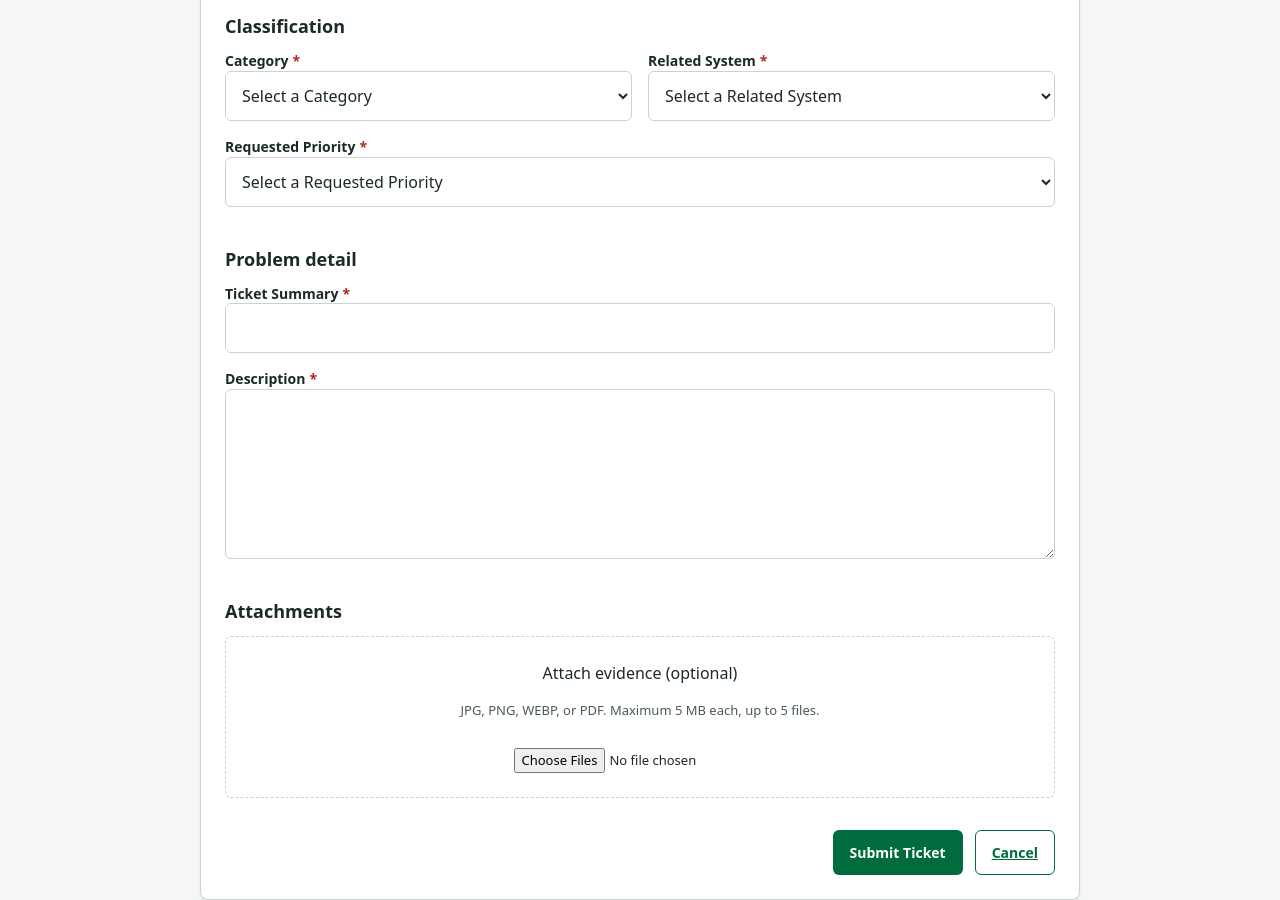
Test: CreateTicket (UI-11 - AC-12) › blocks submission with an empty Summary and sends no create request
(page scrolled)
Check: the dropdown with test id "field-category" is shown, box [225, 71, 632, 121]
Click the button with test id "btn-submit-ticket".
click(898, 853)  # box [833, 830, 963, 875]
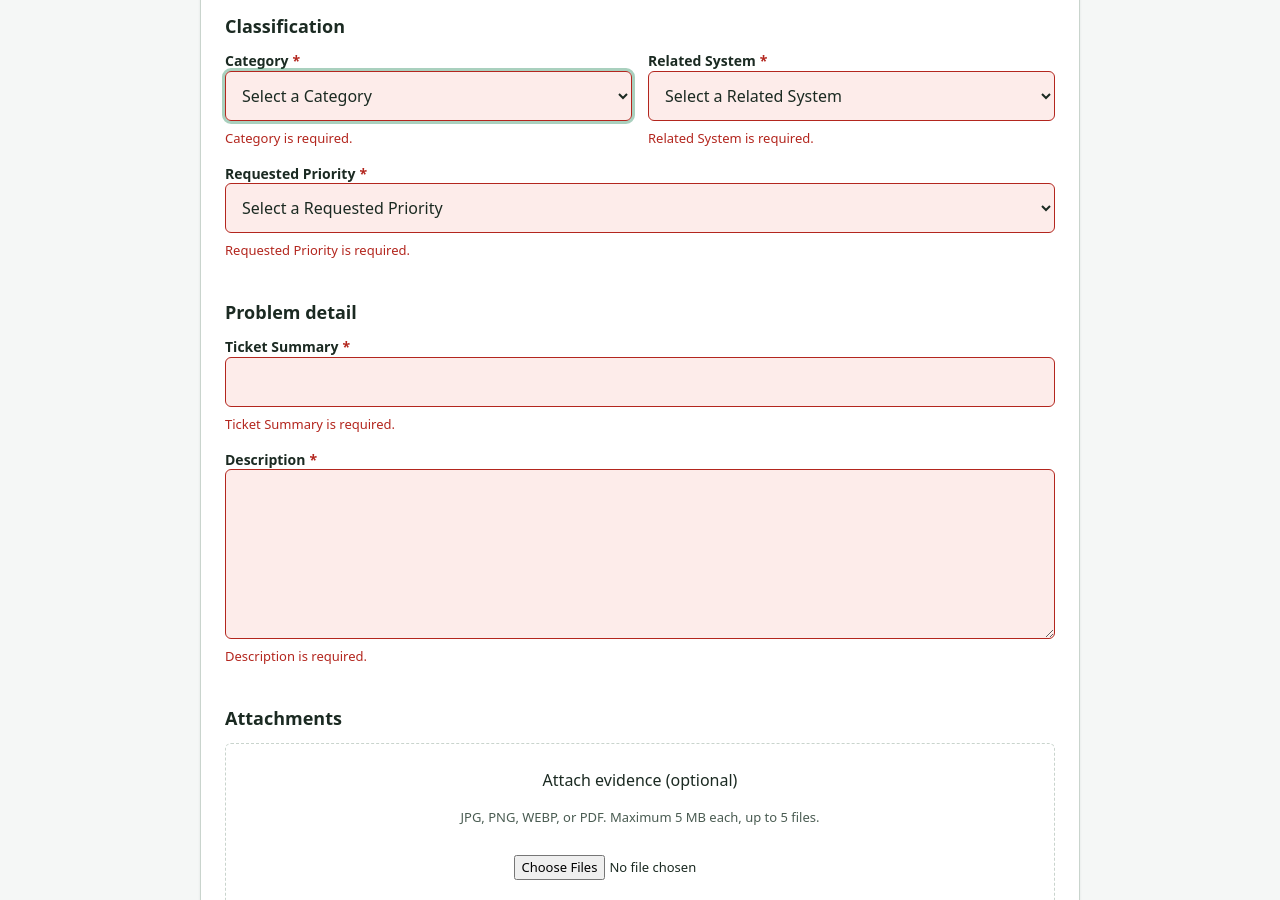
Check: the text "Ticket Summary is required." is shown, box [225, 415, 395, 433]
